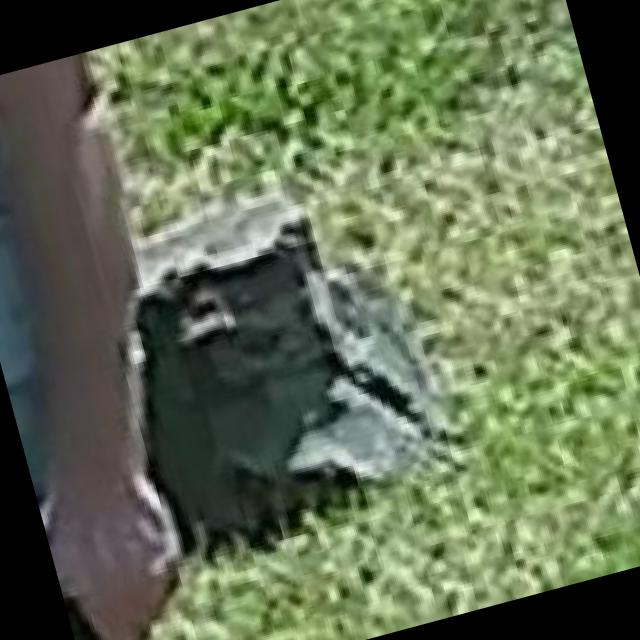Guns: (59, 558, 190, 640)
